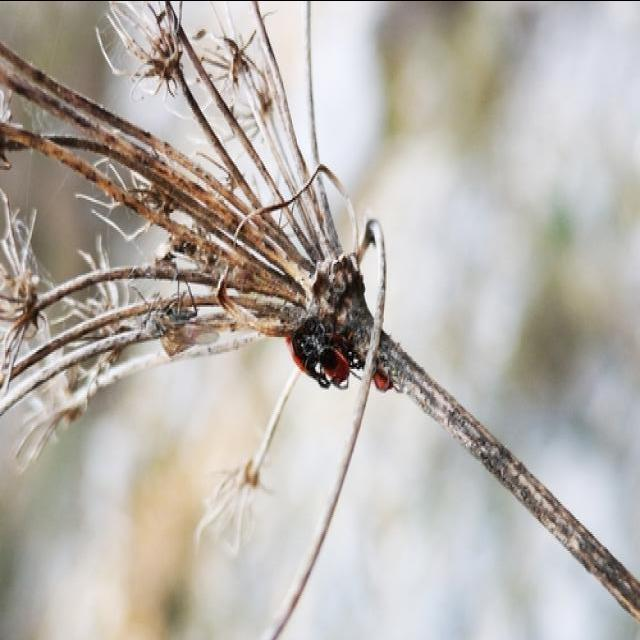Ixodes Ricinus-F: (298, 340, 349, 389)
